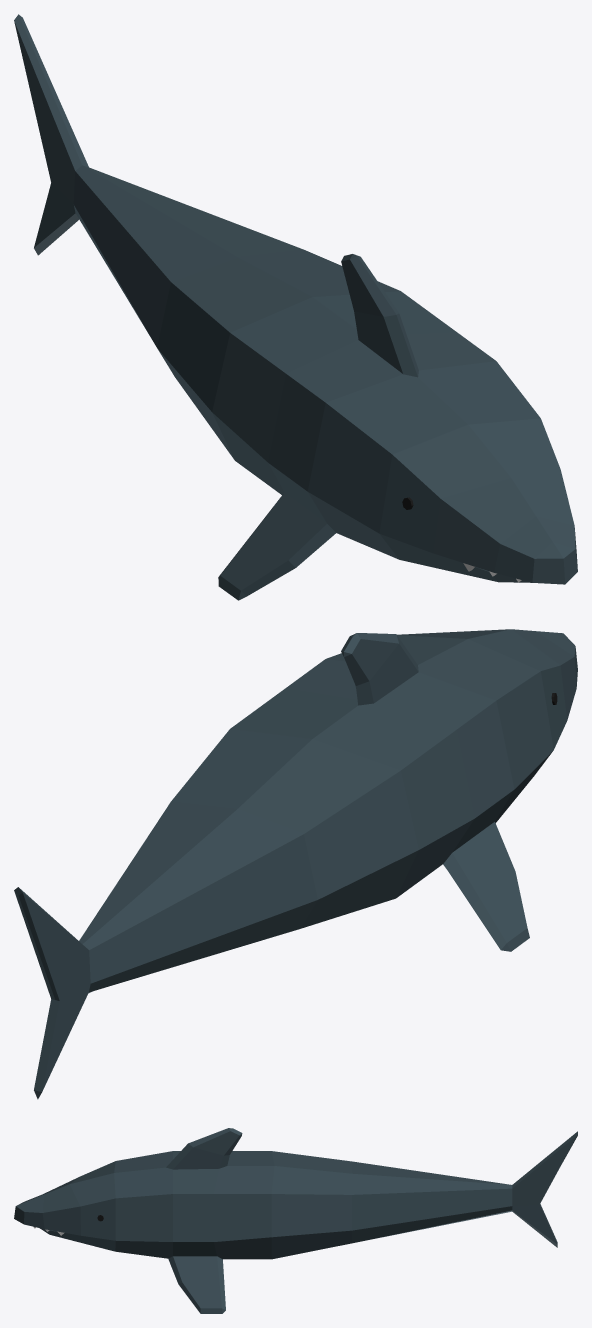
Rendered from Shark_01.fbx.
The picture shows the model from 3 angles, top to bottom: view 1: azimuth 30°, elevation 25°; view 2: azimuth 150°, elevation 25°; view 3: azimuth 270°, elevation 25°; orthographic projection. The views are drawn at different scales.
Parts seen in each view (by area): view 1: Shark_01; view 2: Shark_01; view 3: Shark_01.
Part boxes in pixels (x1,y1,x2,y2): Shark_01: [14, 14, 577, 600]; Shark_01: [14, 629, 577, 1099]; Shark_01: [14, 1128, 577, 1313].
Bounding box in the file's own units: 5.93 × 5.63 × 19.27.
